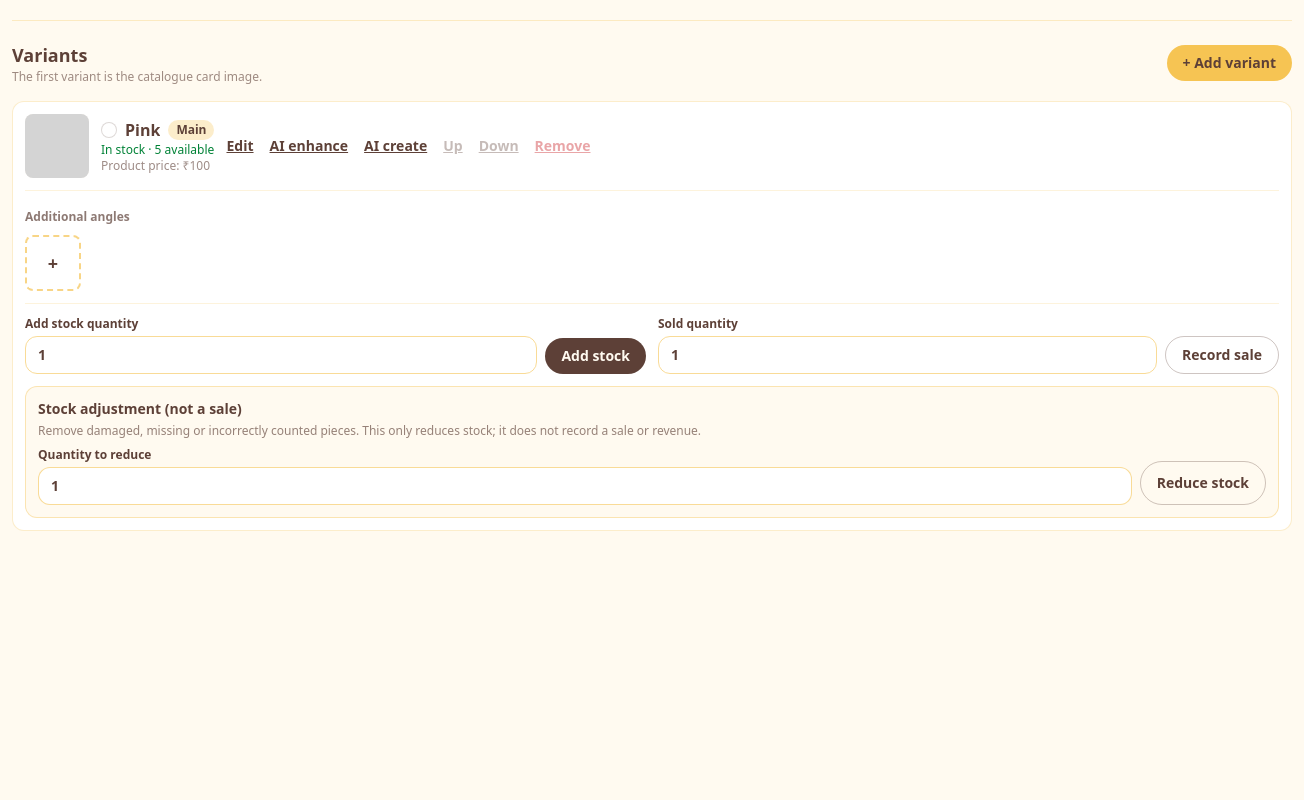
Test: keeps the quantity and displays the backend failure without a success notification
Replace the text in the number field named "Quantity to reduce for Pink" with "4". click: [585, 486]
box: [38,467,1132,505]
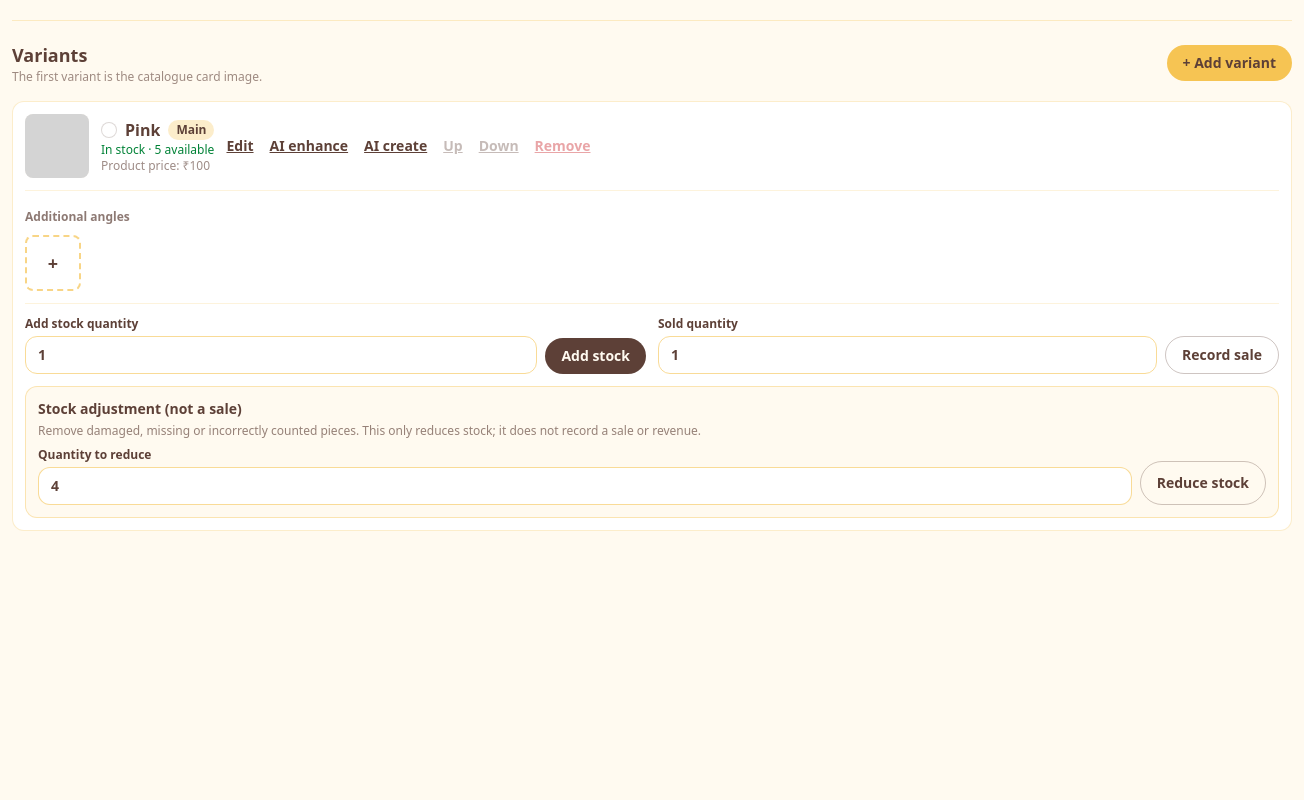
Click the button with aria-label "Reduce stock for Pink". click: [1203, 483]
box: [1140,461,1266,505]
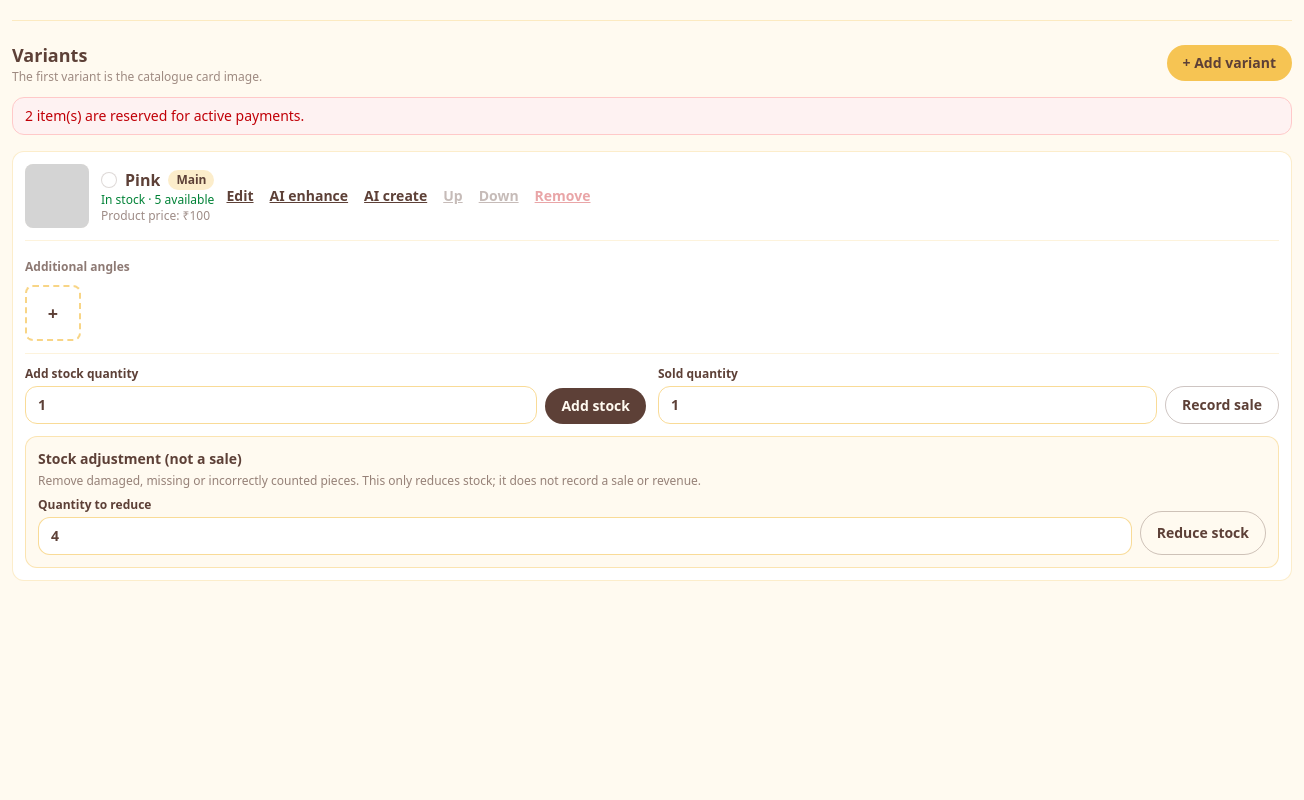
Result: the text "2 item(s) are reserved for active payments." is shown at [12,97,1292,135]
